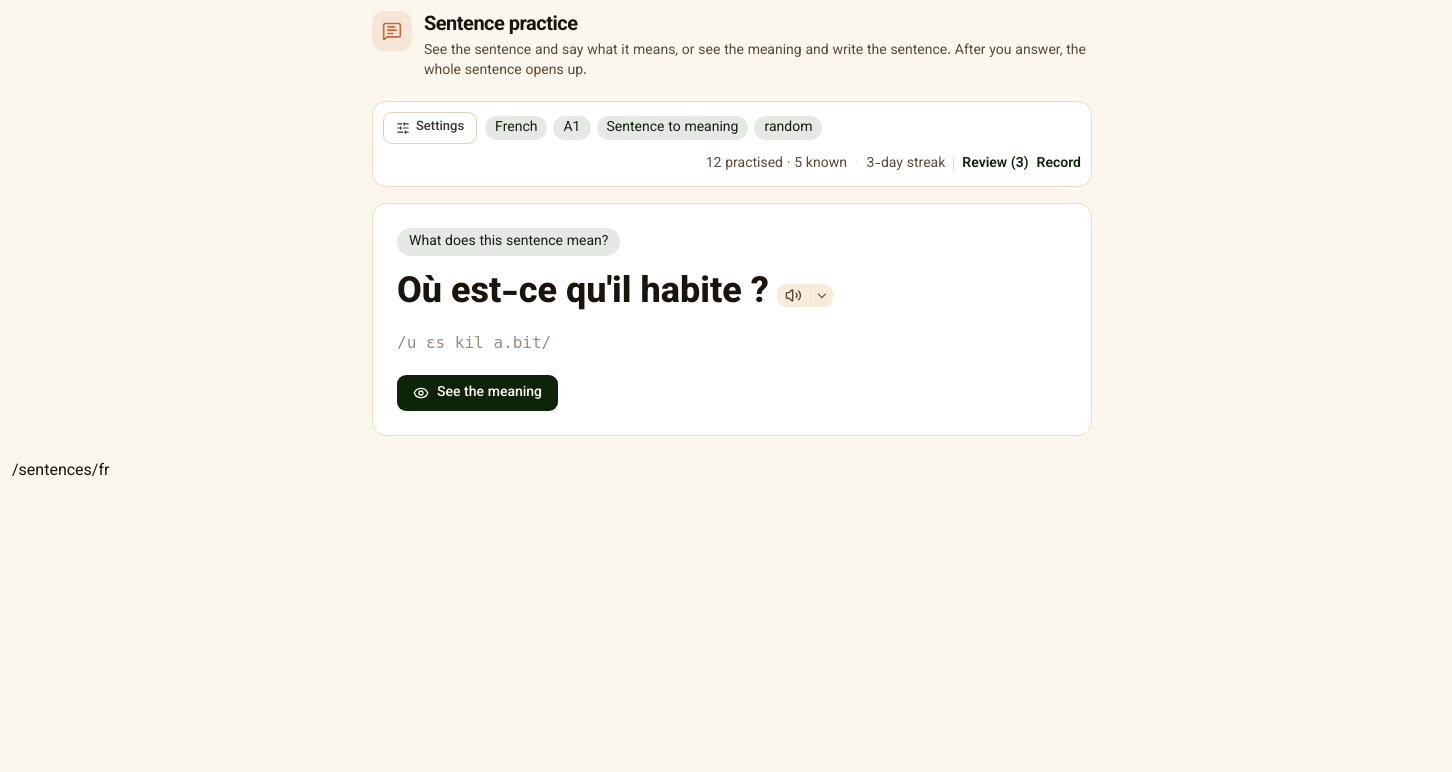
Scenario: recognize, on screen › a rule is closed until opened, then complete: body, example, and the cheatsheet page
Click the button with test id "reveal". click: (478, 392)
box: left=397, top=374, right=558, bottom=410
(page scrolled)
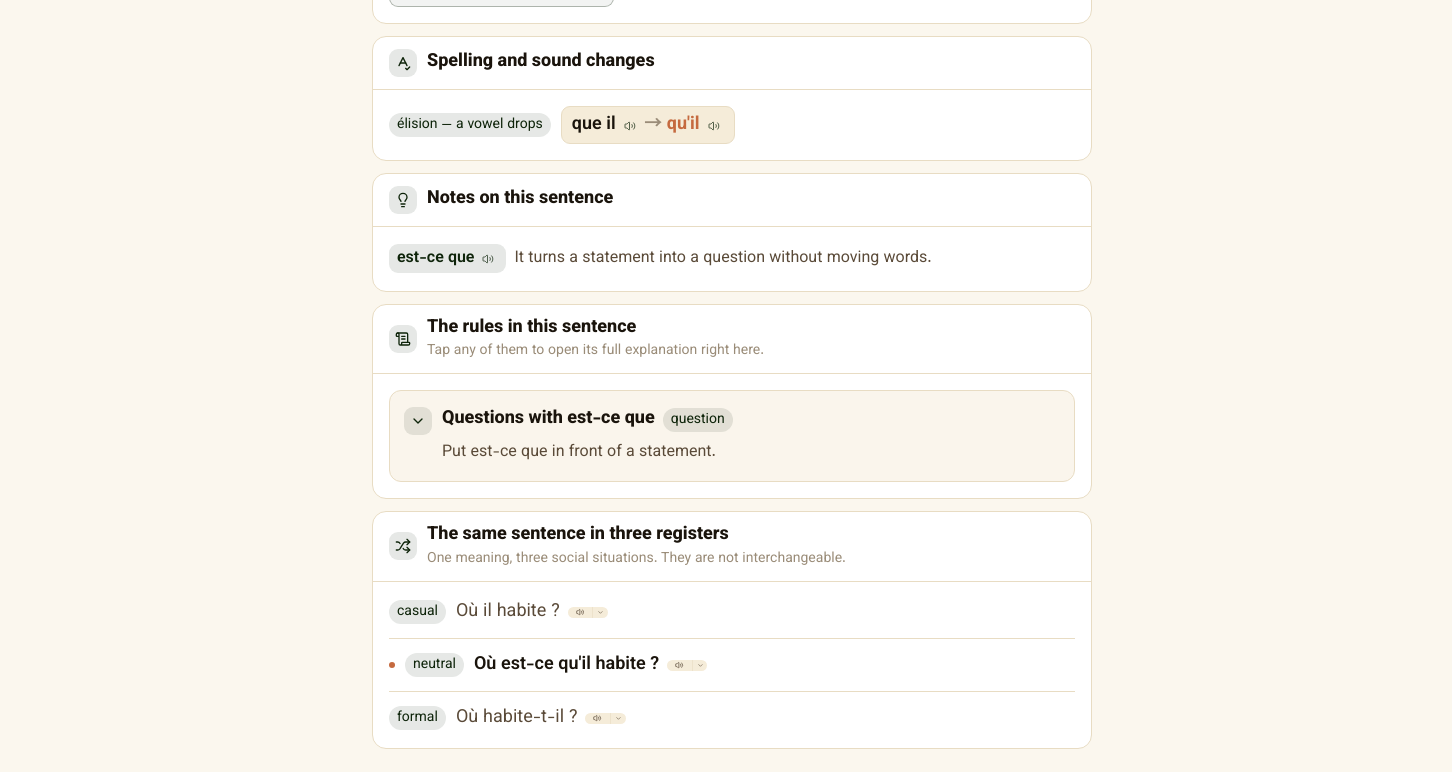
Expected: the text "Are you coming?" is not shown
Click the button "Questions with est-ce que". click: (548, 419)
box: left=390, top=391, right=1074, bottom=481
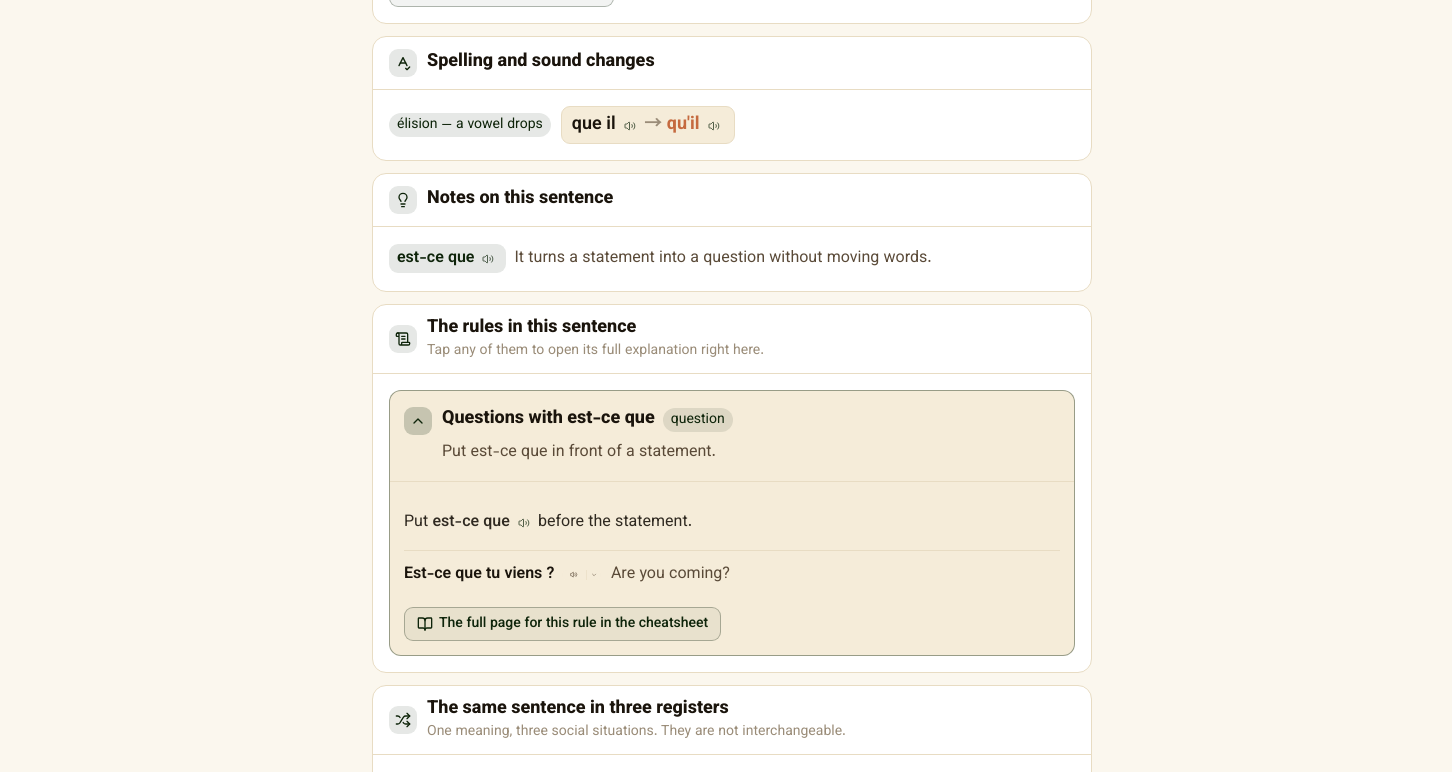
Result: the text "Are you coming?" is shown at left=611, top=563, right=730, bottom=587
